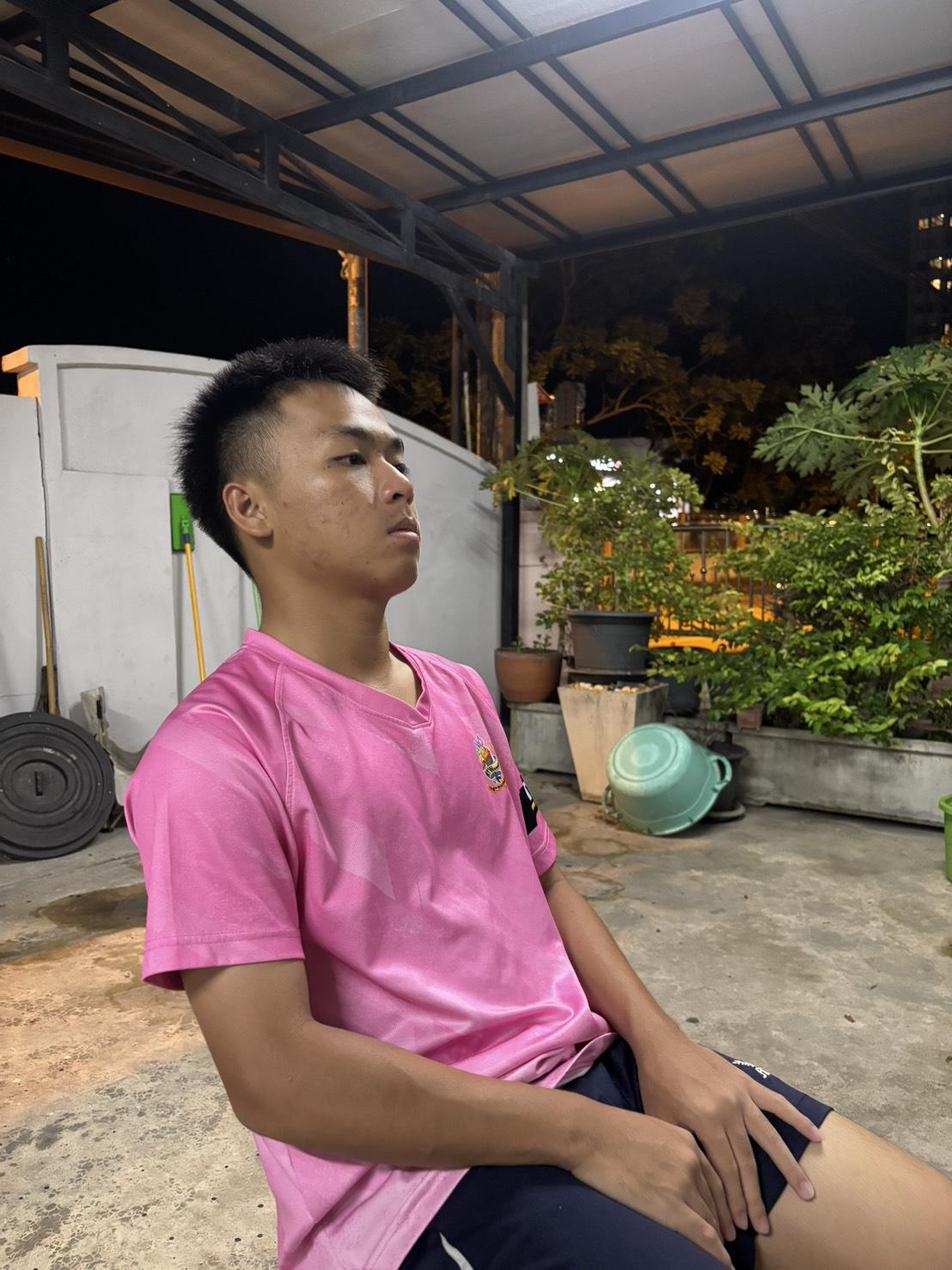BadPosture: (127, 339, 951, 1269)
